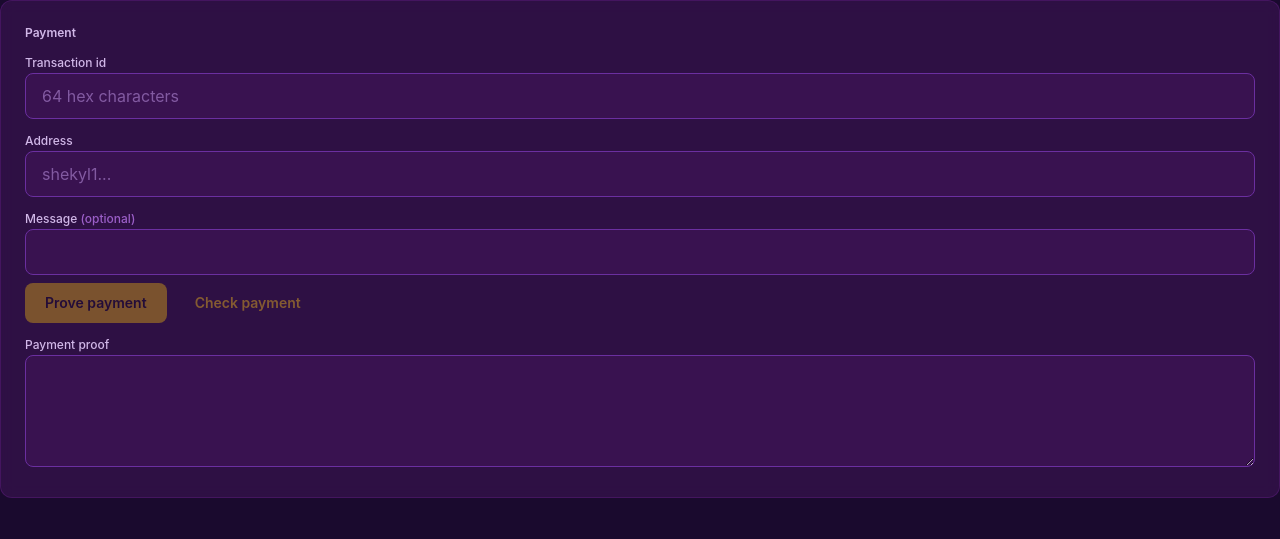
Test: PaymentProof › drops a passing check when an input changes
In the field labelled "Transaction id": coordinates (640, 96) [25, 73, 1255, 119], type "ab"
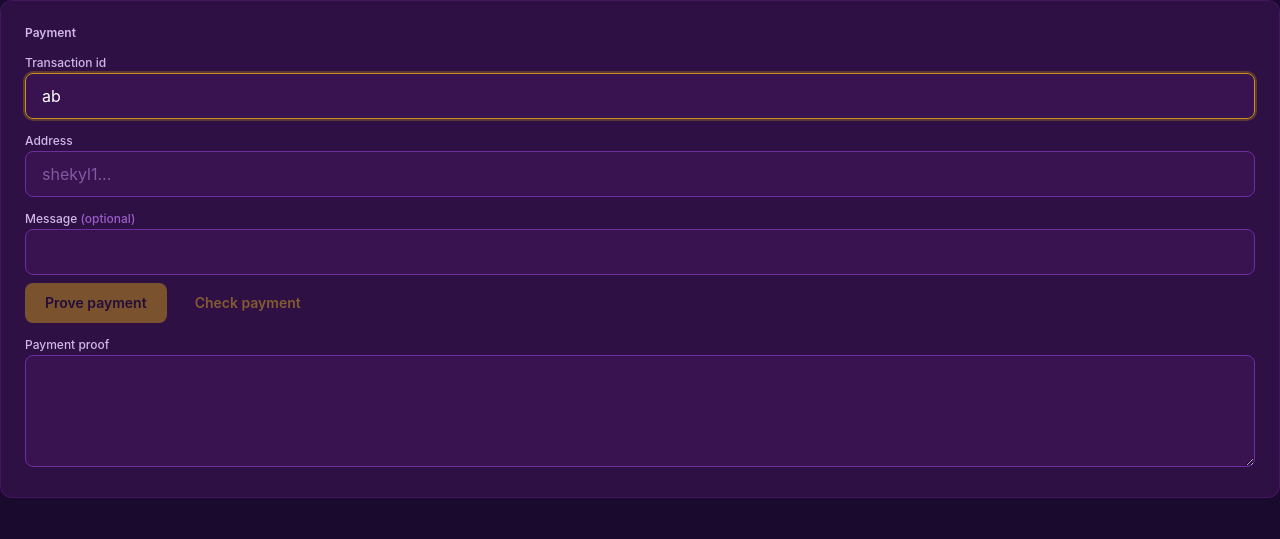
In the field labelled "Address": coordinates (640, 174) [25, 151, 1255, 197], type "addr"
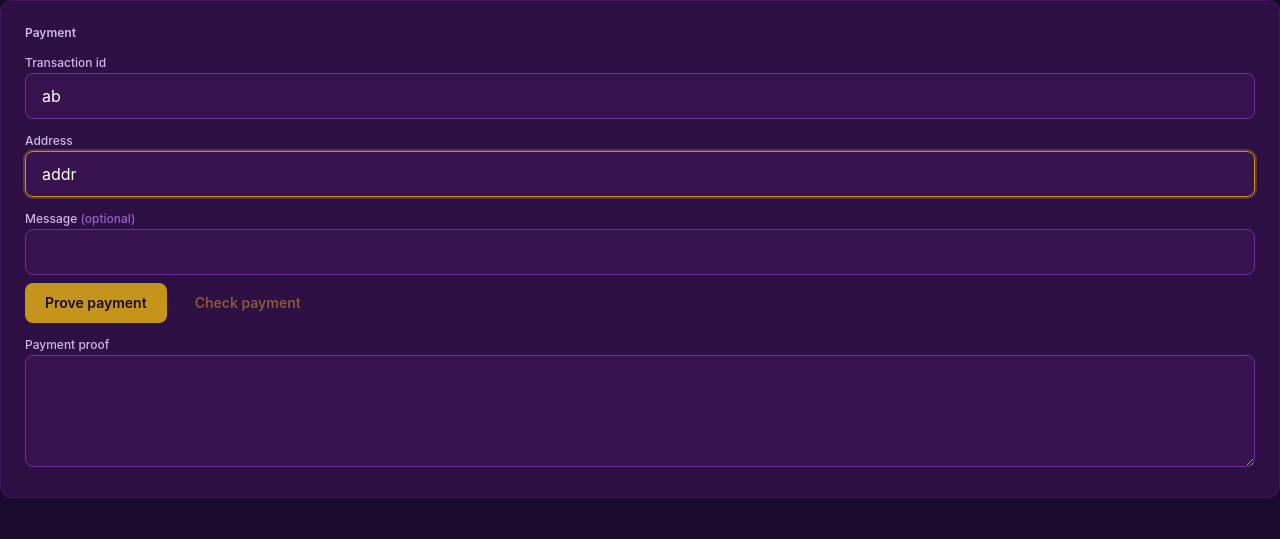
In the text box labelled "Payment proof": coordinates (640, 411) [25, 355, 1255, 467], type "proof"
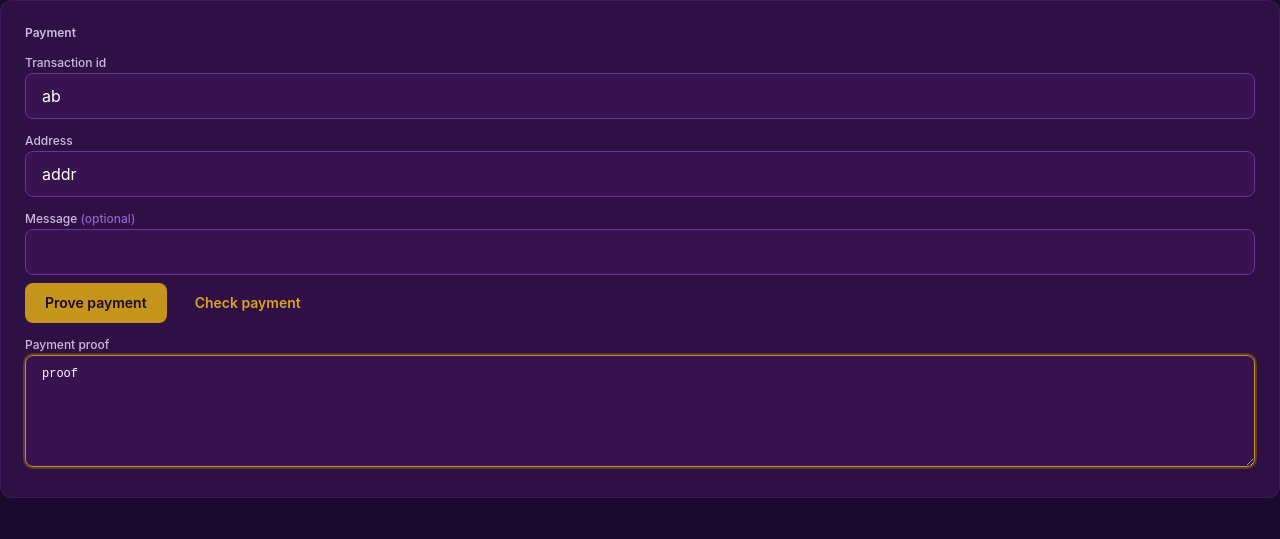
Click the button "Check payment": coordinates (248, 303) [175, 283, 321, 323]
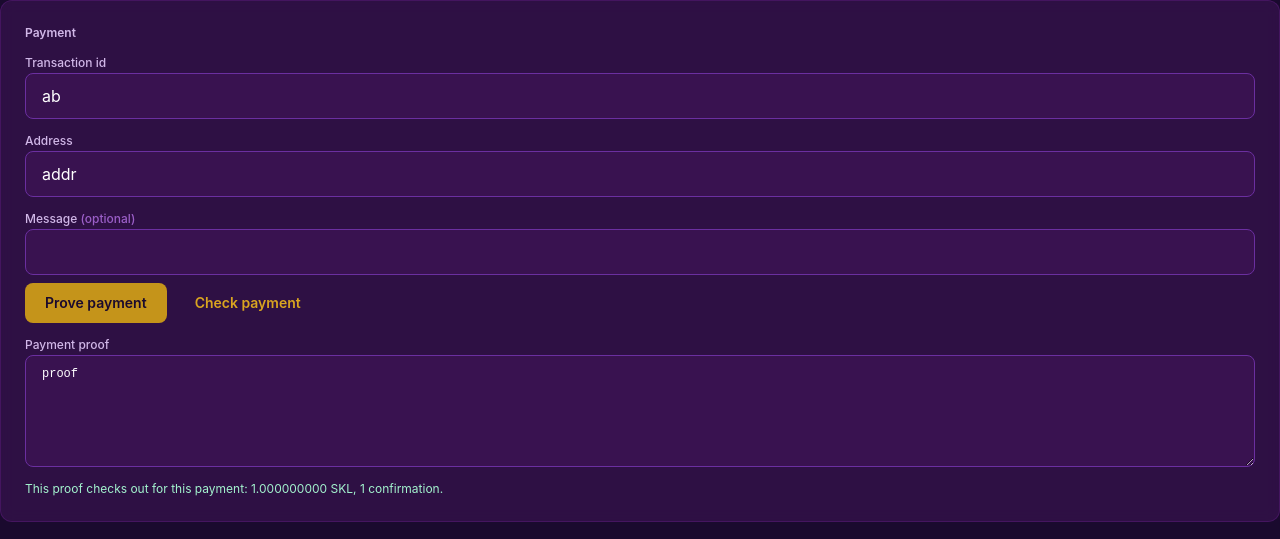
In the field labelled "Transaction id": coordinates (640, 96) [25, 73, 1255, 119], type "c"
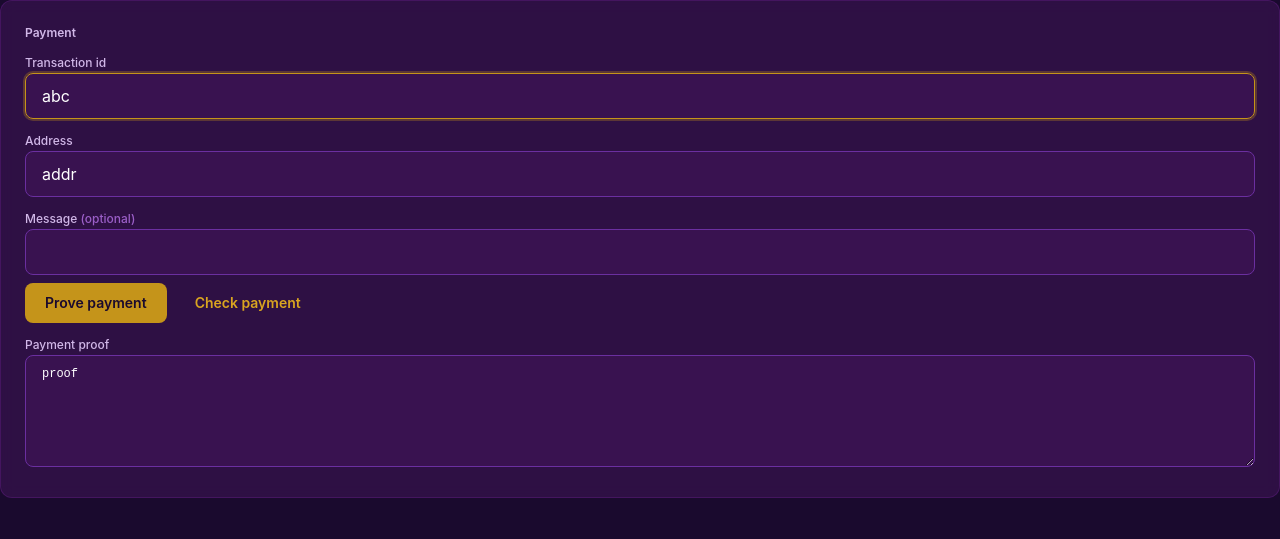
Now the text "checks out" is gone
